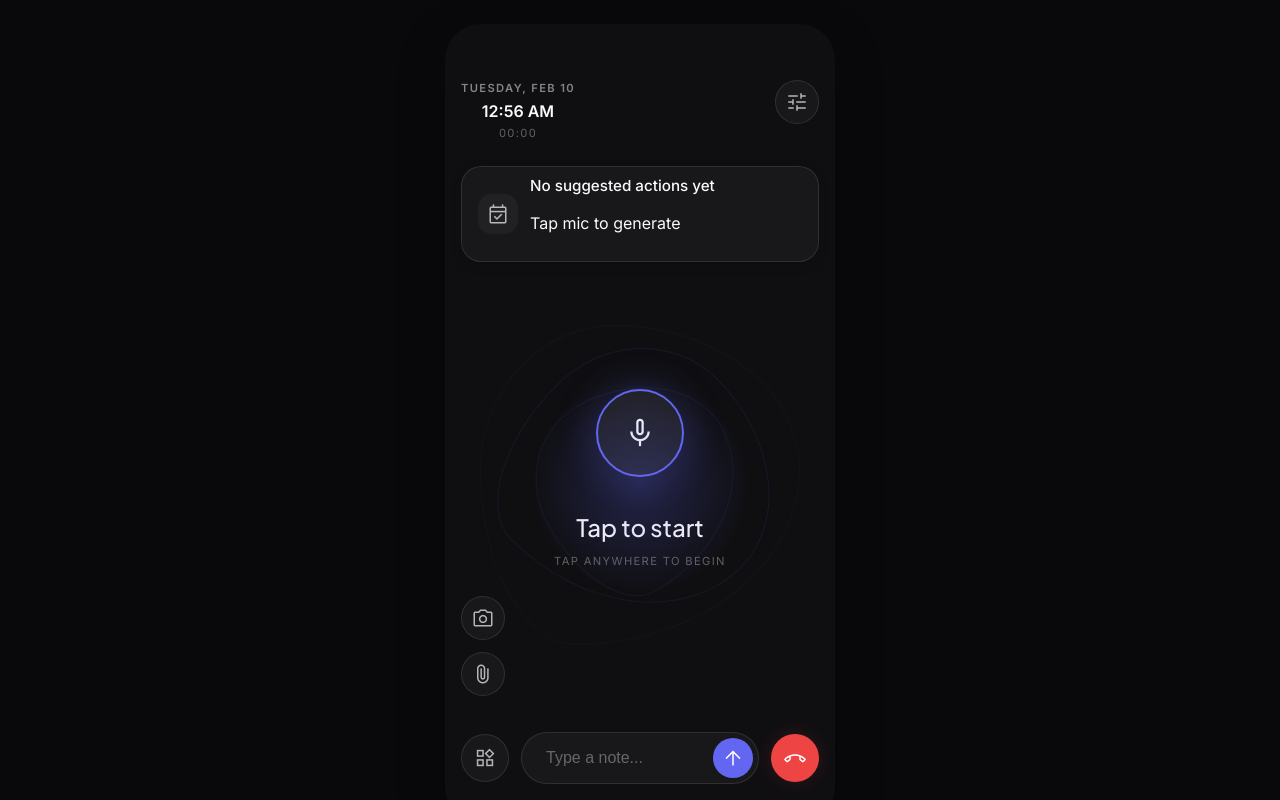
Test case: Chat action bar interactions › Accept creates an open loop and removes the action from the bar
Click the button named "Microphone" at (640, 433), box [596,389,684,477]
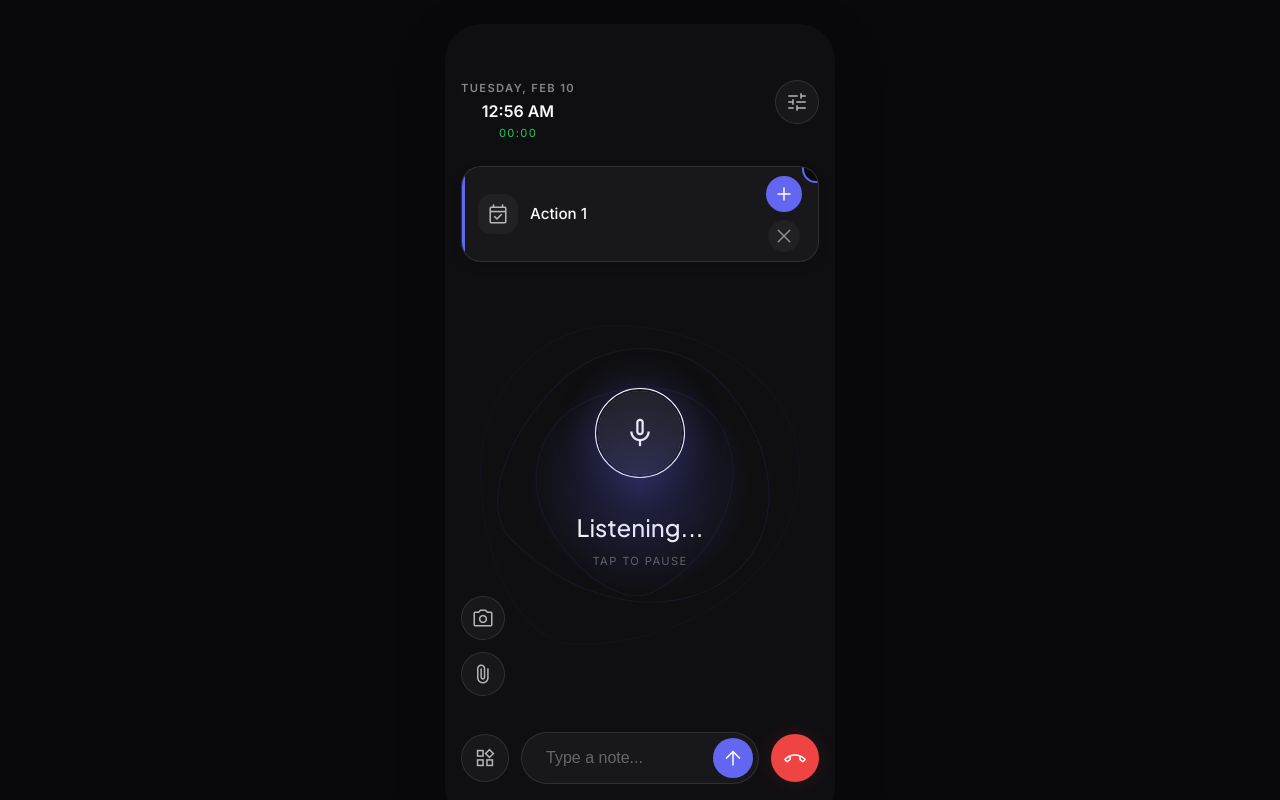
Now the text "Action 1" is shown, box [530,204,587,224]
// Click add button to open permission selector
Click the button named "Add Action 1" at (784, 194), box [766,176,802,212]
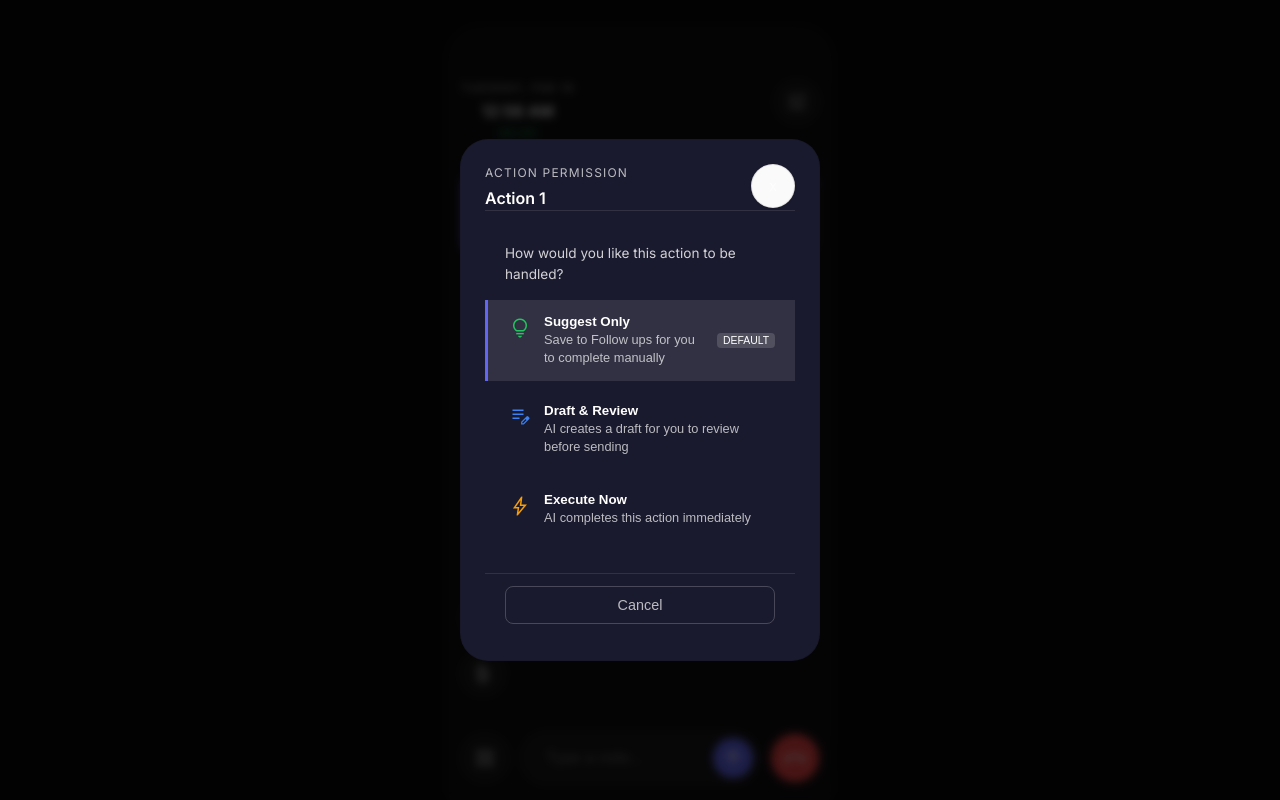
// Click "Suggest Only" option in permission selector
Click the text "Suggest Only" at (587, 322), box [544,314,630,329]
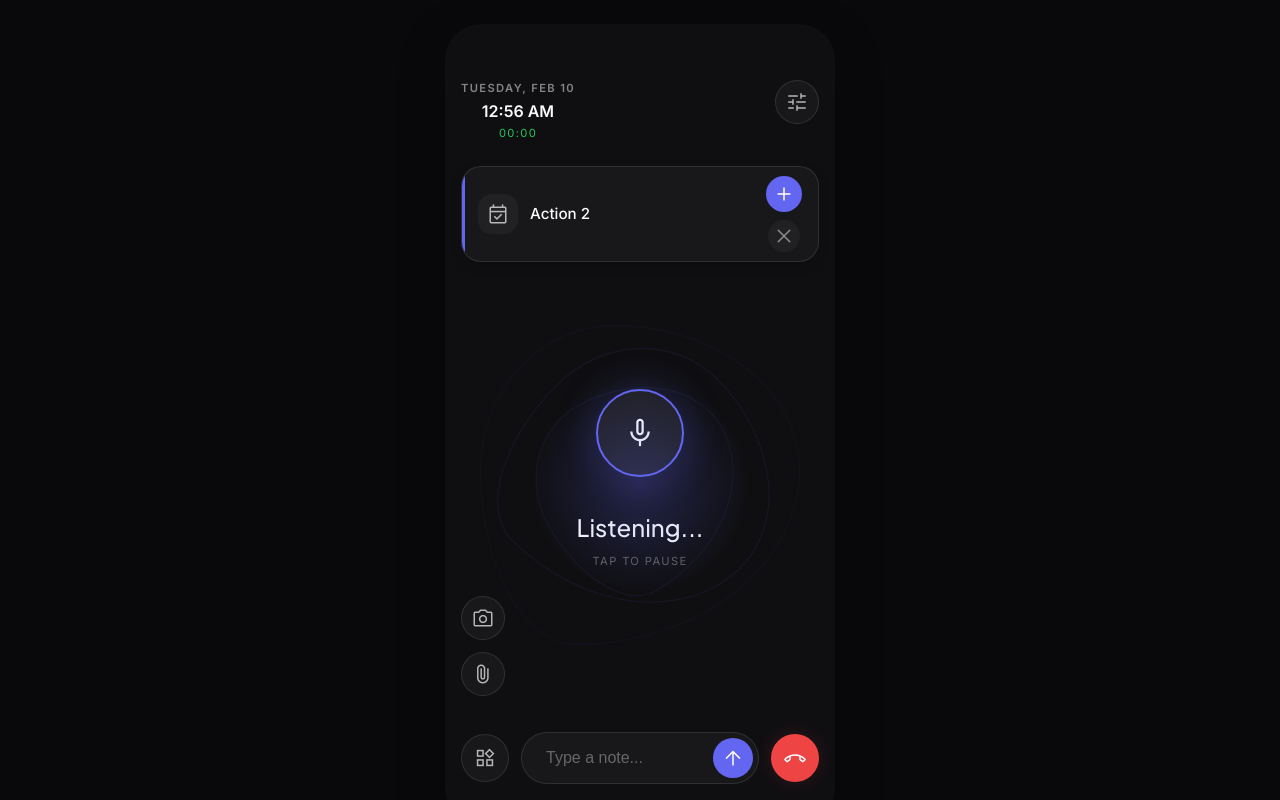
Now the text "Action 1" is gone
